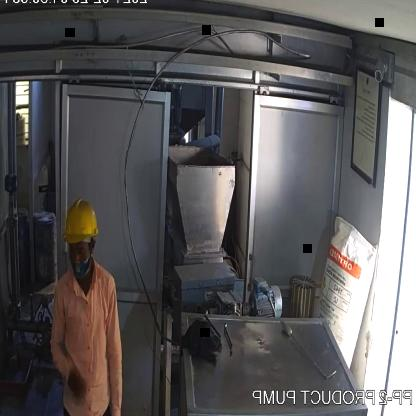helmet: (62, 193, 100, 252)
